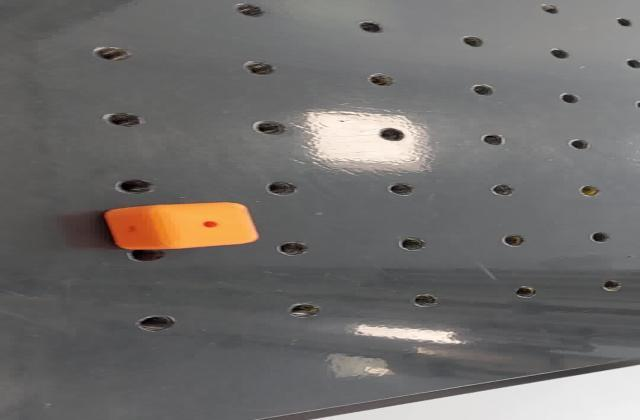cube: (95, 200, 264, 251)
